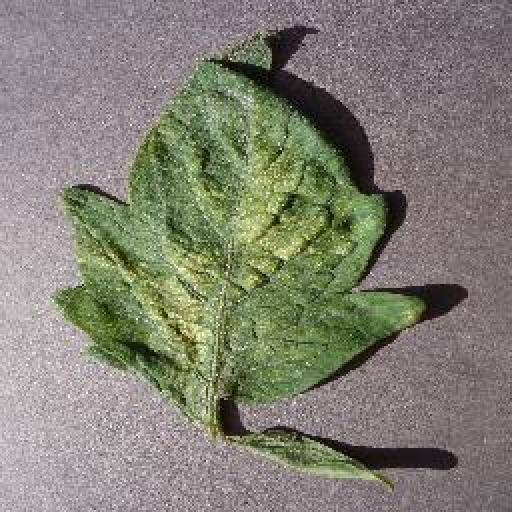Spider Mites: (56, 32, 425, 401)
